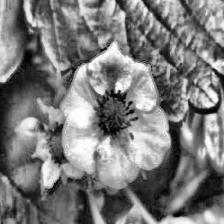Blossom Blight: (91, 87, 140, 145)
